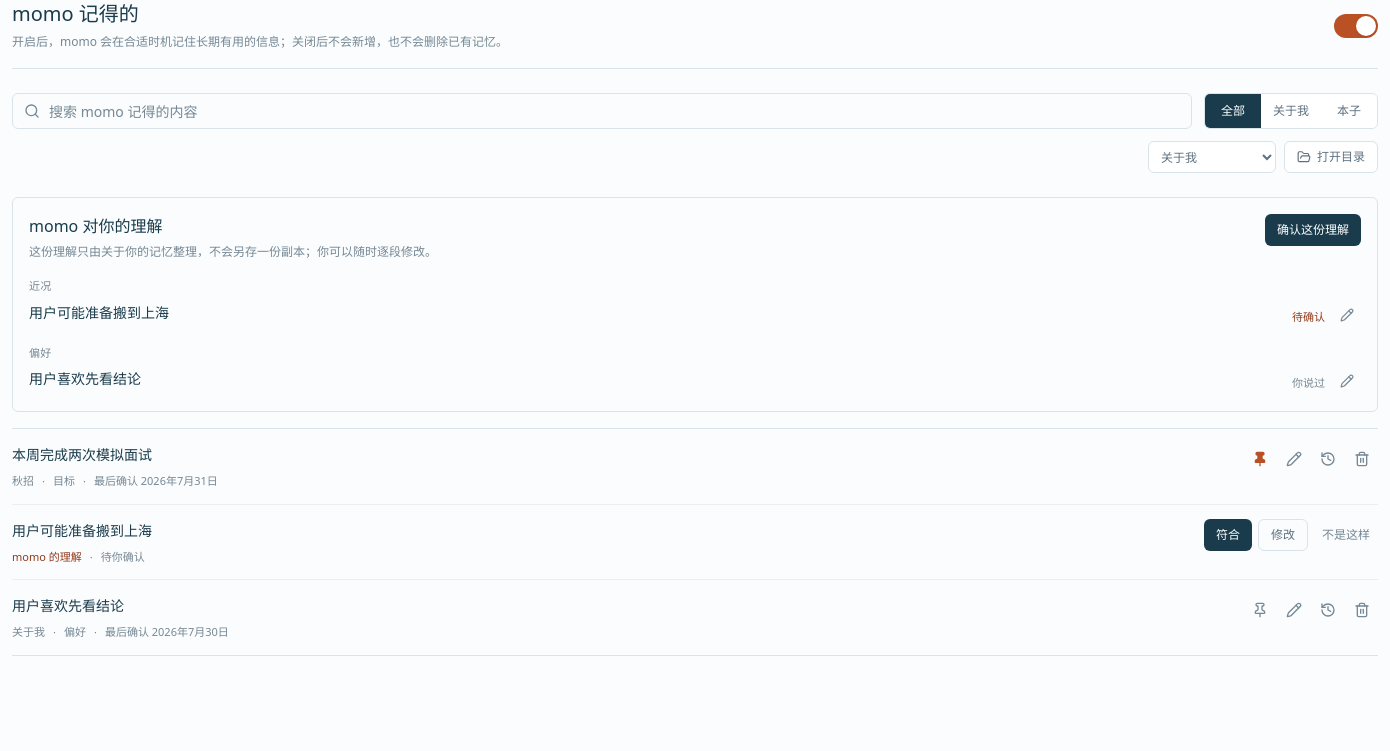
Test: MemorySettingsSection › builds a global understanding summary and confirms its pending inferences as one action
Expected: the heading "momo 对你的理解" is shown, [29, 215, 162, 237]
Expected: the text "用户喜欢先看结论" next to "你说过" is shown, [29, 369, 141, 388]
Click the button named "编辑这段理解：用户可能准备搬到上海". click: (1347, 314)
box: [1333, 300, 1361, 328]
(page scrolled)
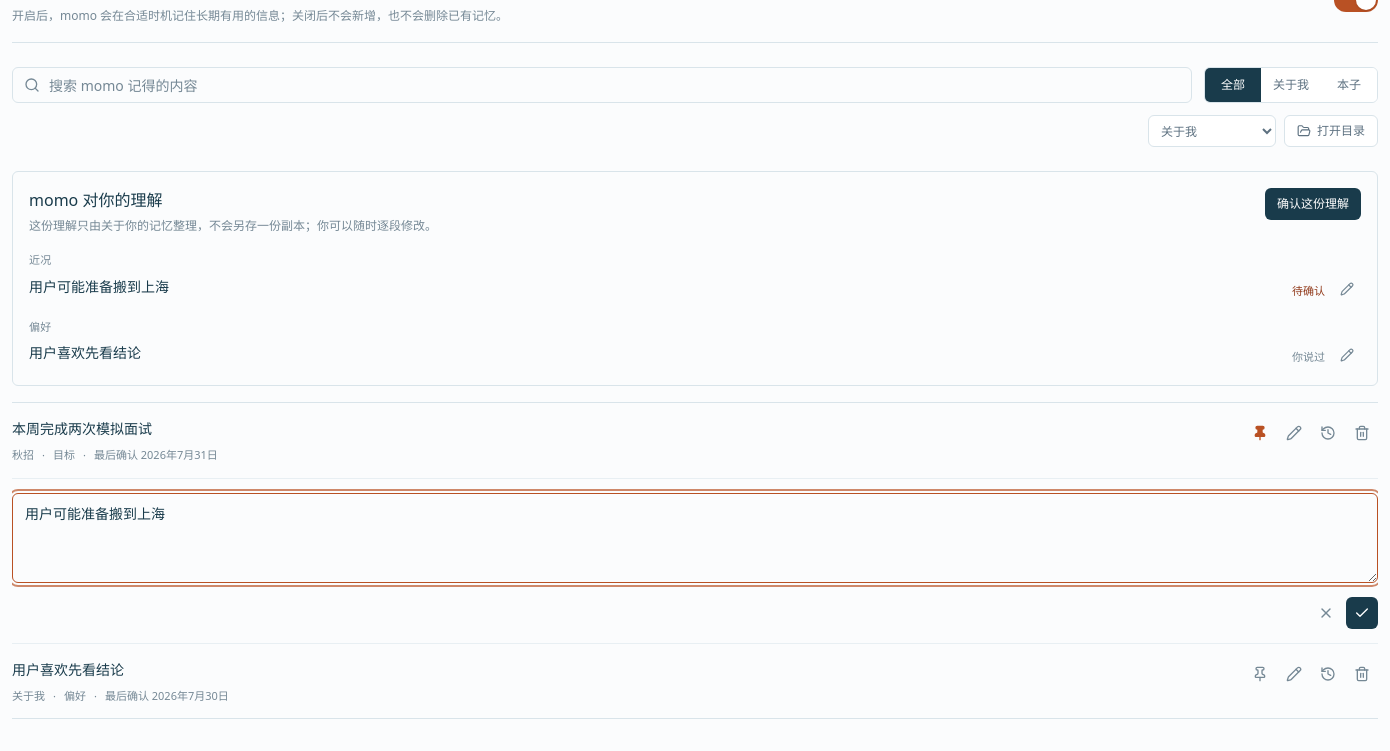
Expected: the text box named "编辑记忆内容" holds "用户可能准备搬到上海", [12, 492, 1378, 582]
Click the button named "取消记忆修改". click: (1326, 612)
box: [1310, 596, 1342, 628]
(page scrolled)
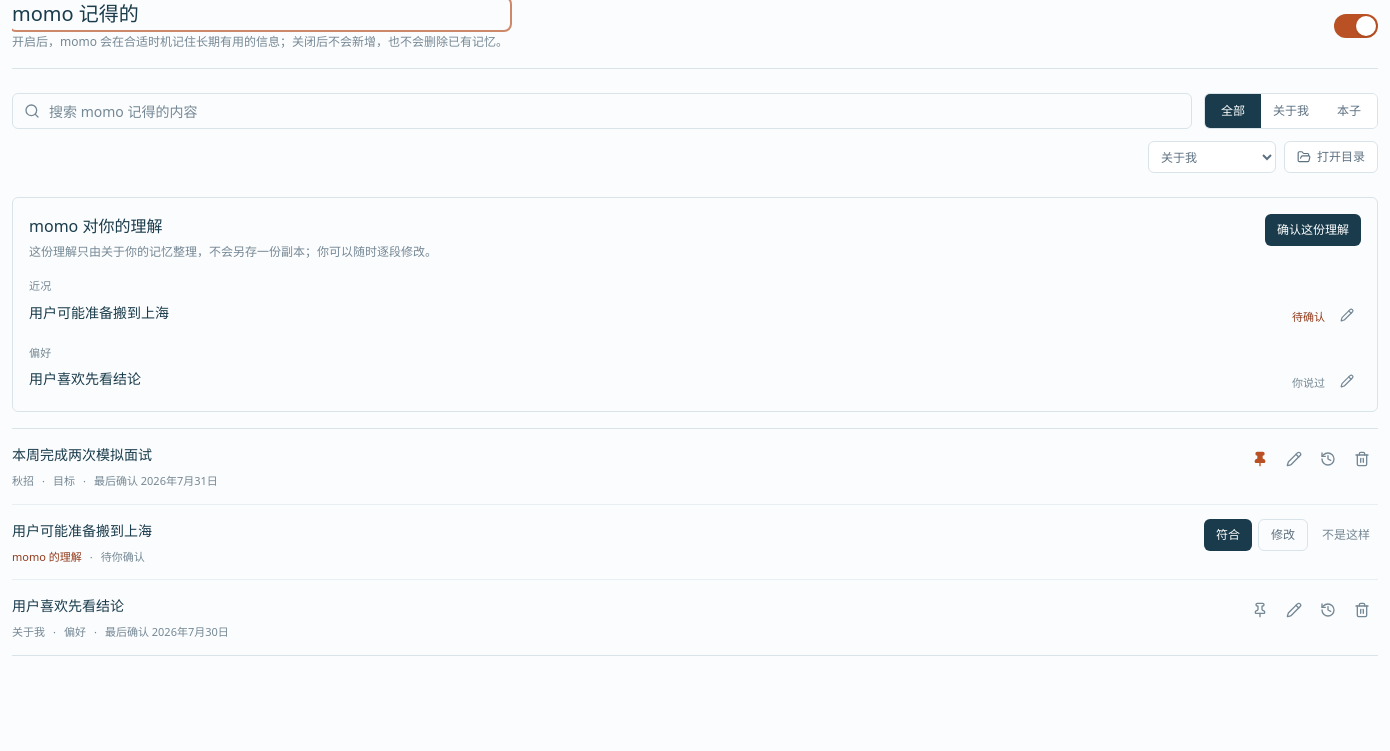
Click the button "确认这份理解". click: (1313, 230)
box: [1265, 214, 1361, 246]
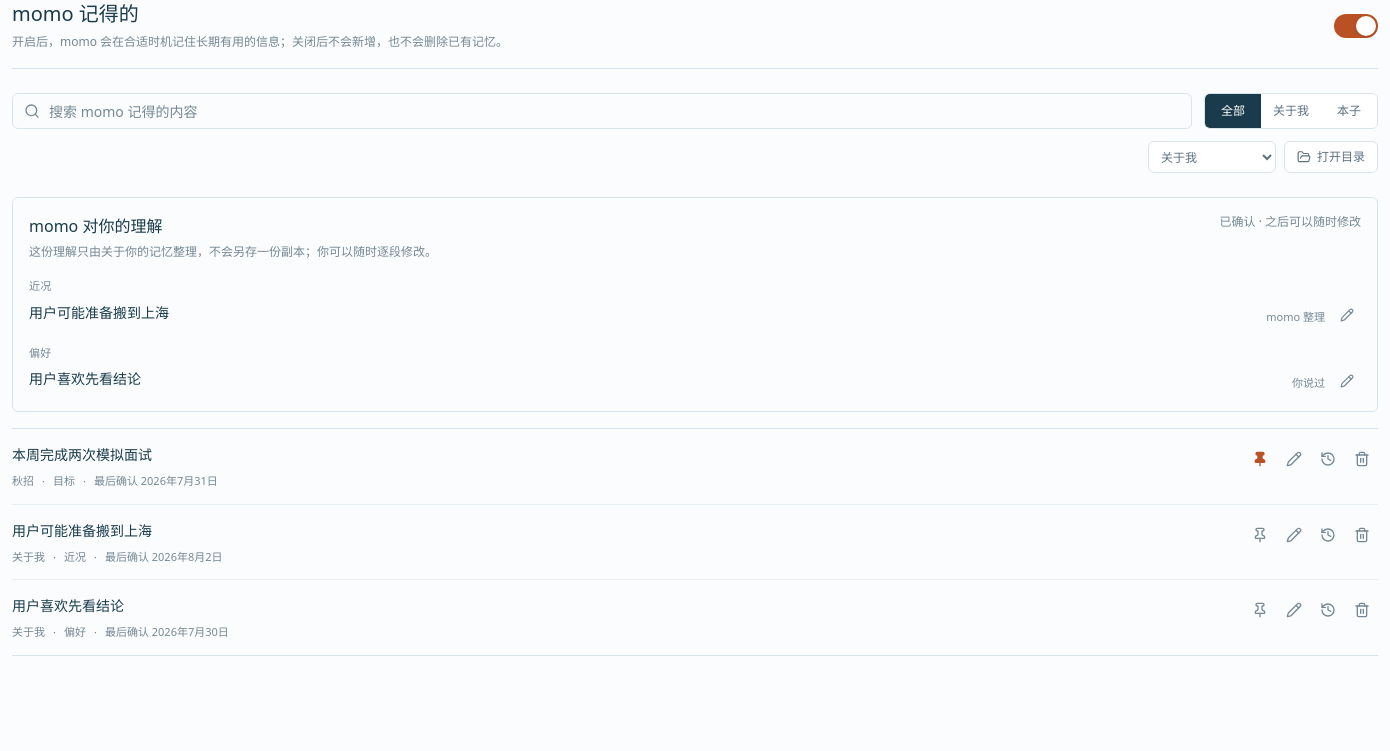
Expected: the text "待你确认" is gone
Expected: the text "已确认 · 之后可以随时修改" is shown, [1220, 214, 1361, 230]
